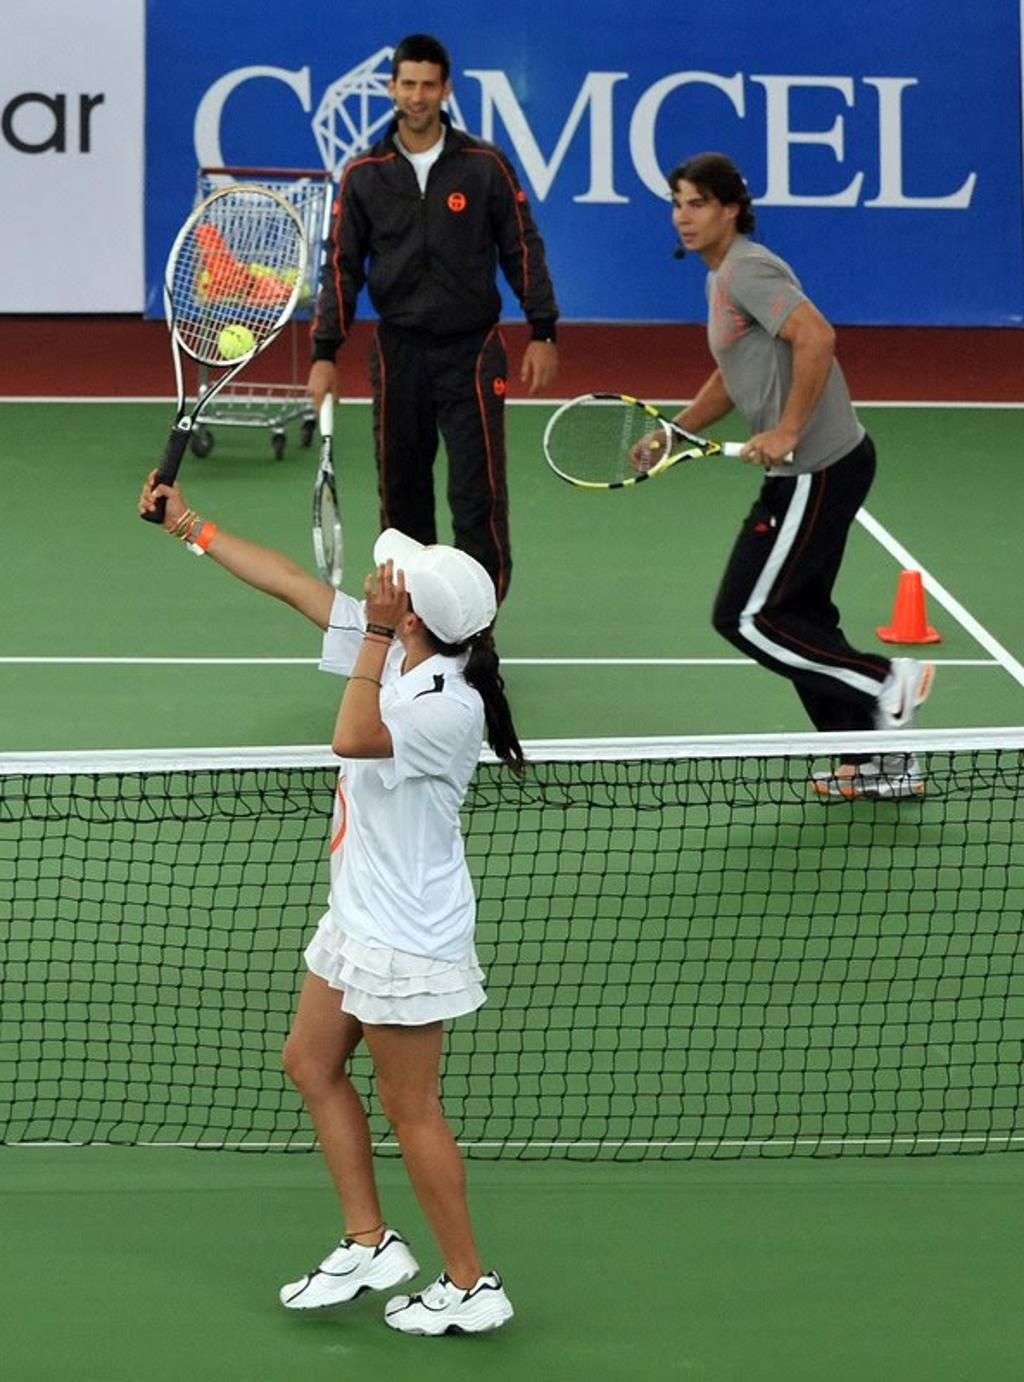face: (672, 180, 723, 250), (395, 60, 440, 130)
